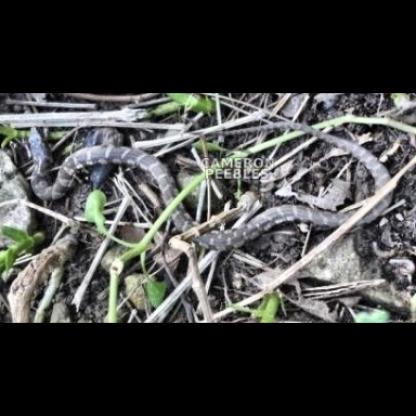Snake: (86, 123, 392, 249), (17, 122, 89, 204)
